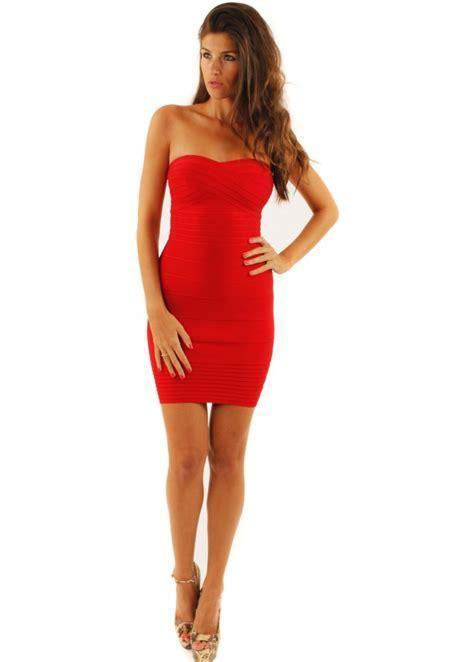dress: (147, 156, 274, 406)
